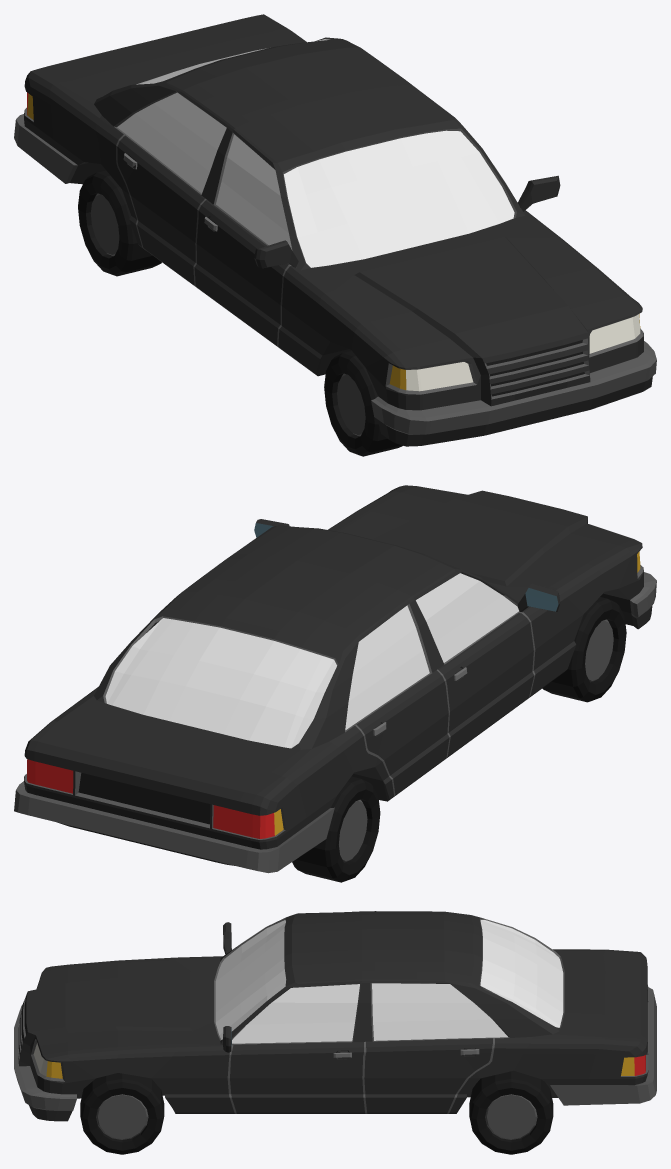
The model's file is Car_Classy_05.fbx.
The picture shows the model from 3 angles, top to bottom: view 1: azimuth 30°, elevation 25°; view 2: azimuth 150°, elevation 25°; view 3: azimuth 270°, elevation 25°; orthographic projection. The views are drawn at different scales.
Parts seen in each view (by area): view 1: Car_Classy_05, Wheel_Classic_05.R.R, Wheel_Classic_05.F.R; view 2: Car_Classy_05, Wheel_Classic_05.R.R, Wheel_Classic_05.F.R; view 3: Car_Classy_05, Wheel_Classic_05.R.L, Wheel_Classic_05.F.L.
Boxes of the visible parts, box(x1,y1,x2,y2) form: Car_Classy_05: box(14, 14, 656, 446); Wheel_Classic_05.R.R: box(78, 170, 161, 276); Wheel_Classic_05.F.R: box(324, 351, 402, 456); Car_Classy_05: box(14, 485, 656, 873); Wheel_Classic_05.R.R: box(292, 776, 380, 882); Wheel_Classic_05.F.R: box(542, 597, 626, 702); Car_Classy_05: box(14, 911, 656, 1121); Wheel_Classic_05.R.L: box(469, 1070, 553, 1154); Wheel_Classic_05.F.L: box(80, 1073, 164, 1154).
Bounding box in the file's own units: 301 × 201 × 696.
